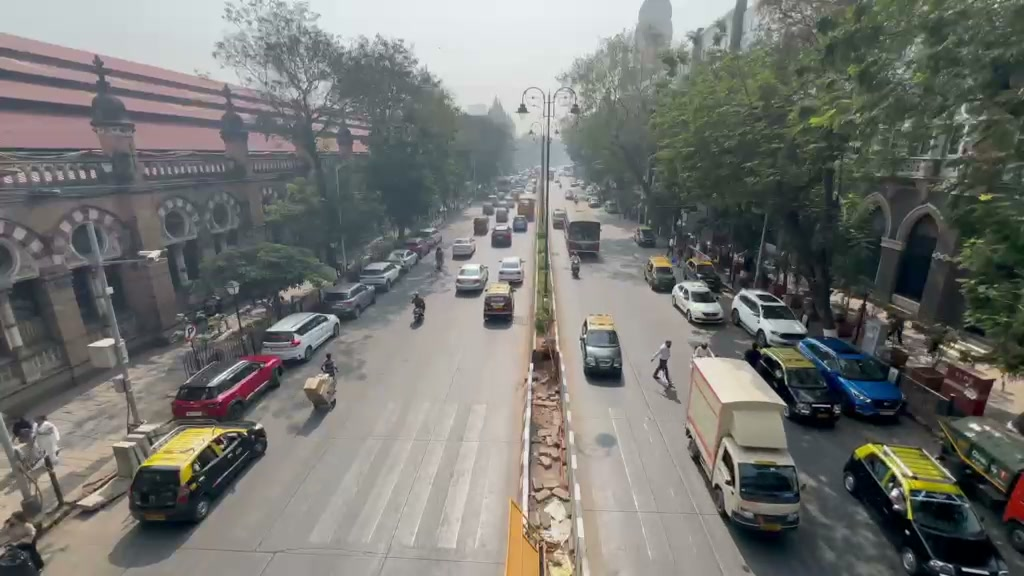bus: (565, 220, 601, 258)
car: (128, 423, 269, 524), (792, 334, 907, 422), (745, 344, 843, 428), (171, 353, 283, 421), (259, 310, 340, 367), (731, 289, 809, 345), (580, 315, 624, 381), (671, 280, 725, 326), (319, 279, 377, 321), (644, 255, 679, 294), (482, 288, 515, 328), (359, 260, 400, 291), (454, 262, 489, 296), (497, 256, 525, 287), (387, 248, 419, 268), (490, 223, 512, 248), (451, 238, 475, 260), (511, 216, 527, 232)
motorcycle: (410, 294, 425, 328)
pedestrian: (651, 339, 674, 388), (321, 353, 339, 379)
truck: (683, 354, 803, 538), (842, 442, 997, 575), (937, 414, 1024, 542), (731, 288, 808, 345), (566, 220, 602, 257)
